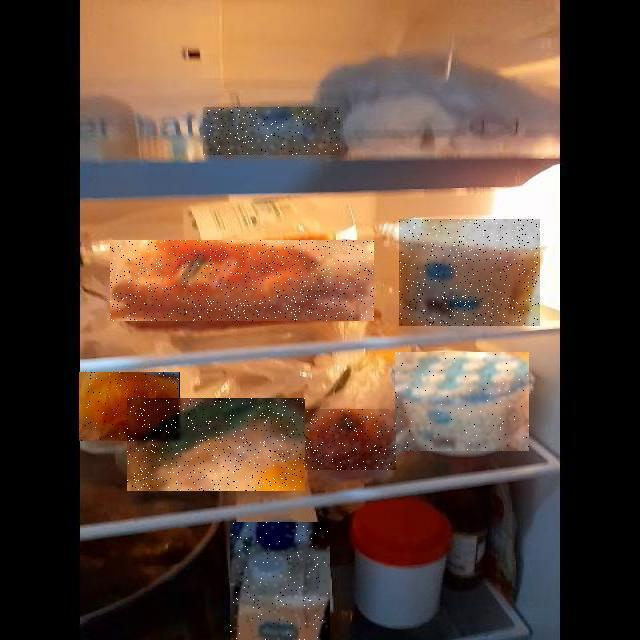Butter: (203, 107, 340, 155)
Carrot: (111, 240, 375, 321)
Chillies: (127, 398, 305, 491)
Lemon: (79, 372, 180, 441)
Milk: (231, 522, 331, 640)
Tomato Paste: (305, 409, 396, 470)
Yoghurt: (399, 219, 540, 326), (395, 352, 529, 451)
